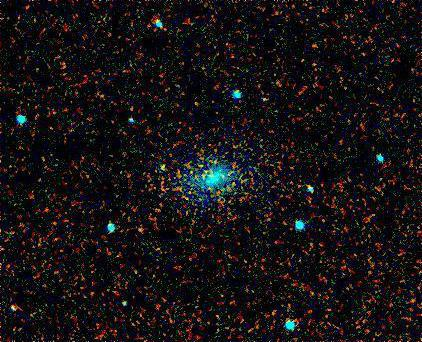star: (153, 147, 183, 177)
